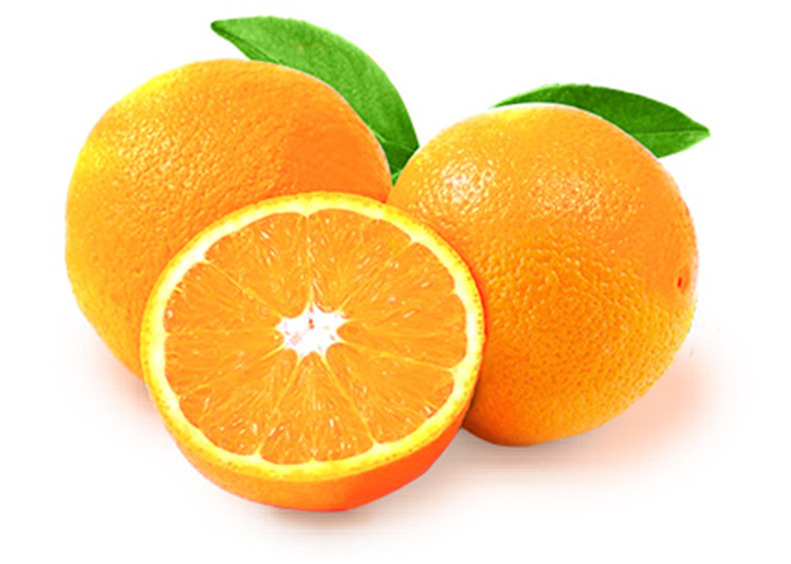orange: (62, 55, 393, 409), (392, 99, 703, 451)
